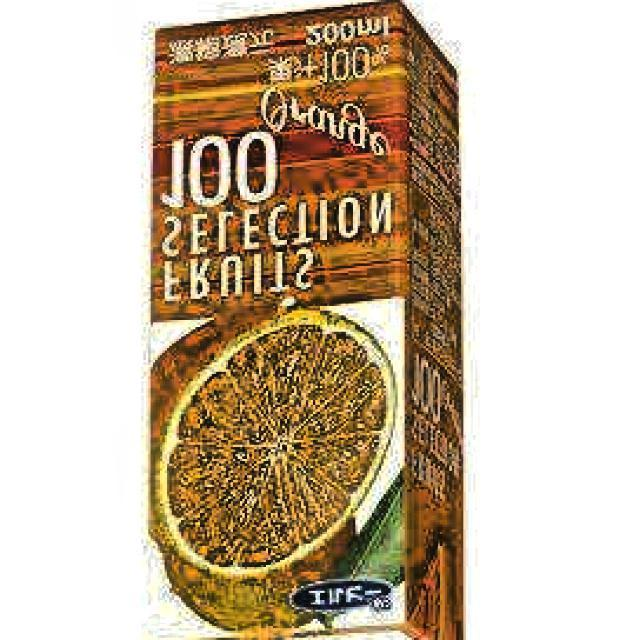cardboard: (141, 0, 466, 640)
